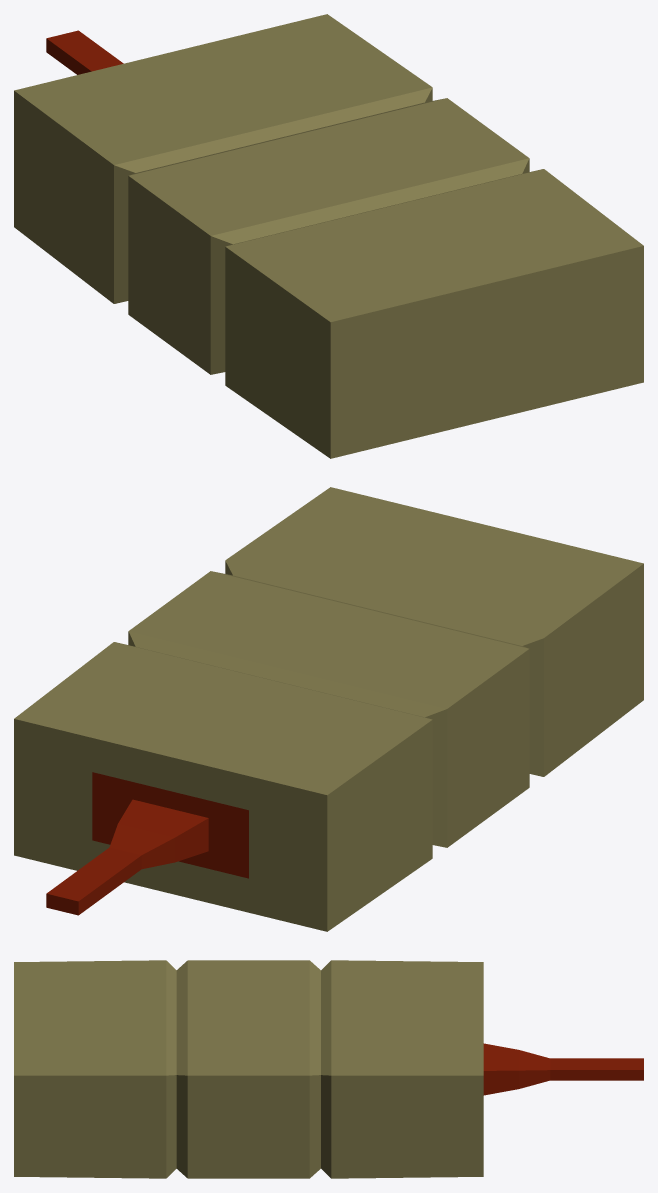
The model's file is В2-Тротиловая шашка.fbx.
The picture shows the model from 3 angles, top to bottom: view 1: azimuth 30°, elevation 25°; view 2: azimuth 150°, elevation 25°; view 3: azimuth 270°, elevation 25°; orthographic projection. The views are drawn at different scales.
Parts seen in each view (by area): view 1: Cube; view 2: Cube; view 3: Cube.
Part boxes in pixels (bbox=[...]): Cube: bbox=[14, 14, 643, 458]; Cube: bbox=[14, 487, 643, 931]; Cube: bbox=[14, 960, 643, 1178].
Bounding box in the file's own units: 212 × 88.17 × 488.
